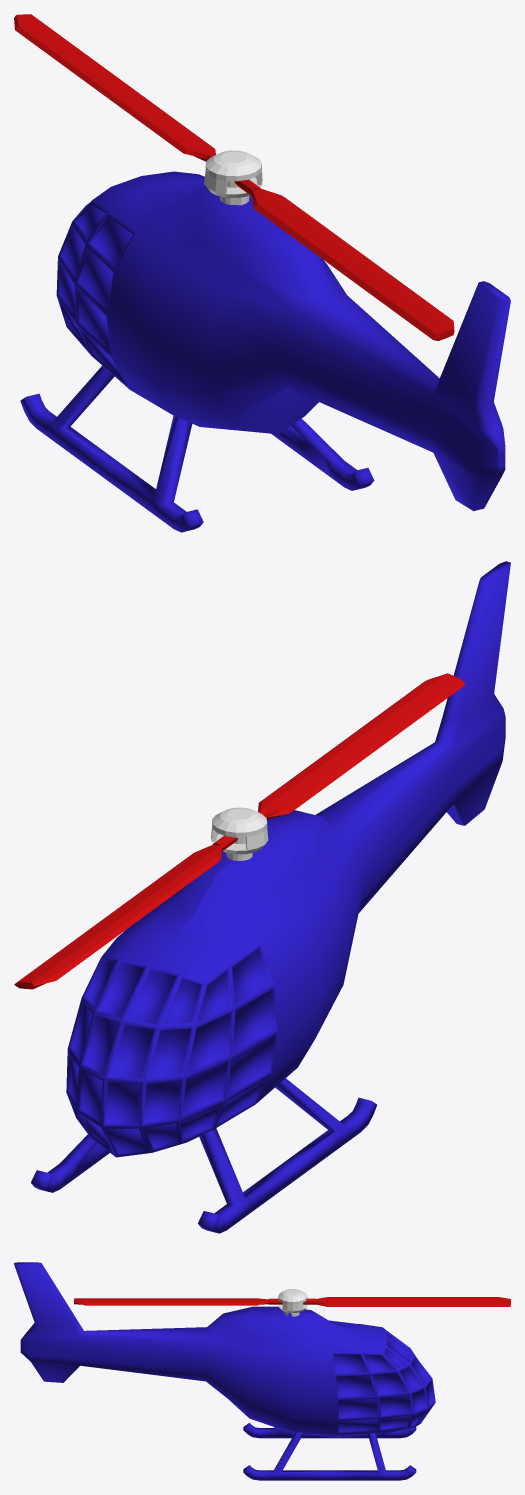
File: chopper-mat.dae
3 renders of one model, top to bottom at view 1: azimuth 30°, elevation 25°; view 2: azimuth 150°, elevation 25°; view 3: azimuth 270°, elevation 25°, orthographic. The views are drawn at different scales.
Visible parts, largest first — view 1: Body, Blade1, Blade2, Blades; view 2: Body, Blade1, Blade2, Blades; view 3: Body, Blade2, Blade1, Blades.
Part boxes in pixels (x1,y1,x2,y2): Body: [20, 171, 510, 532]; Blade1: [234, 179, 454, 340]; Blade2: [14, 14, 215, 161]; Blades: [204, 150, 262, 205]; Body: [31, 561, 510, 1233]; Blade1: [258, 673, 465, 819]; Blade2: [14, 835, 237, 989]; Blades: [211, 807, 268, 860]; Body: [14, 1262, 435, 1480]; Blade2: [303, 1297, 510, 1306]; Blade1: [74, 1298, 282, 1305]; Blades: [278, 1289, 307, 1316].
Bounding box in the file's own units: 3.29 × 15.16 × 6.54.
